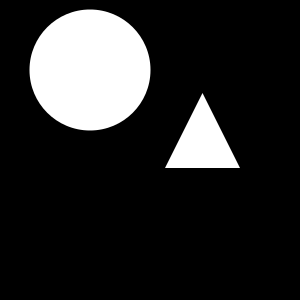rectangle: (30, 10, 150, 130)
triangle: (165, 93, 240, 168)
